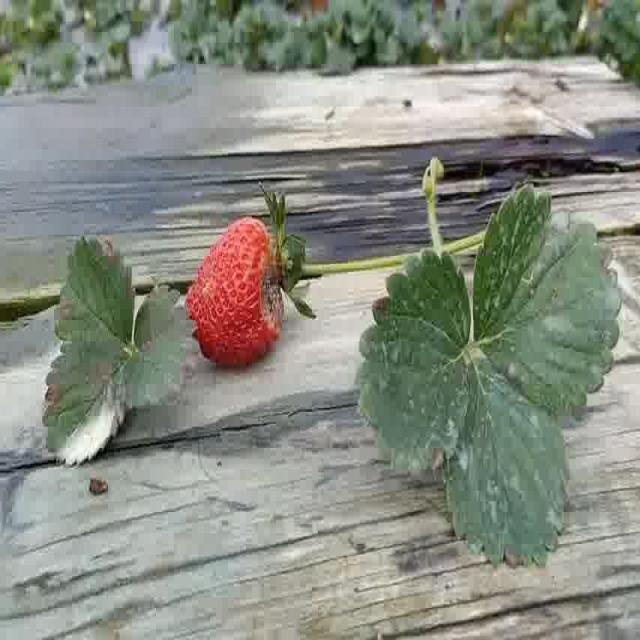Mancha negra Antracnosis: (187, 210, 297, 365)
